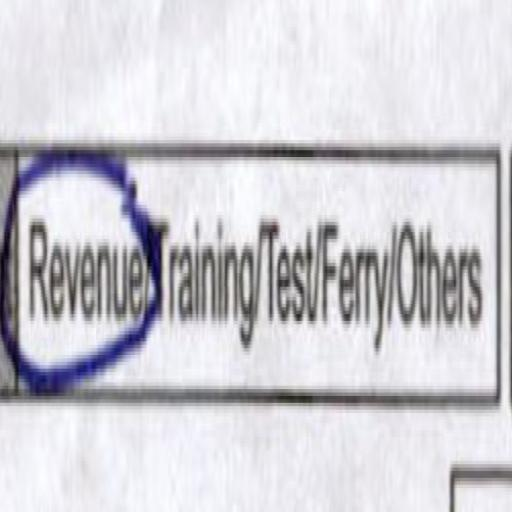check: (14, 58, 156, 454)
